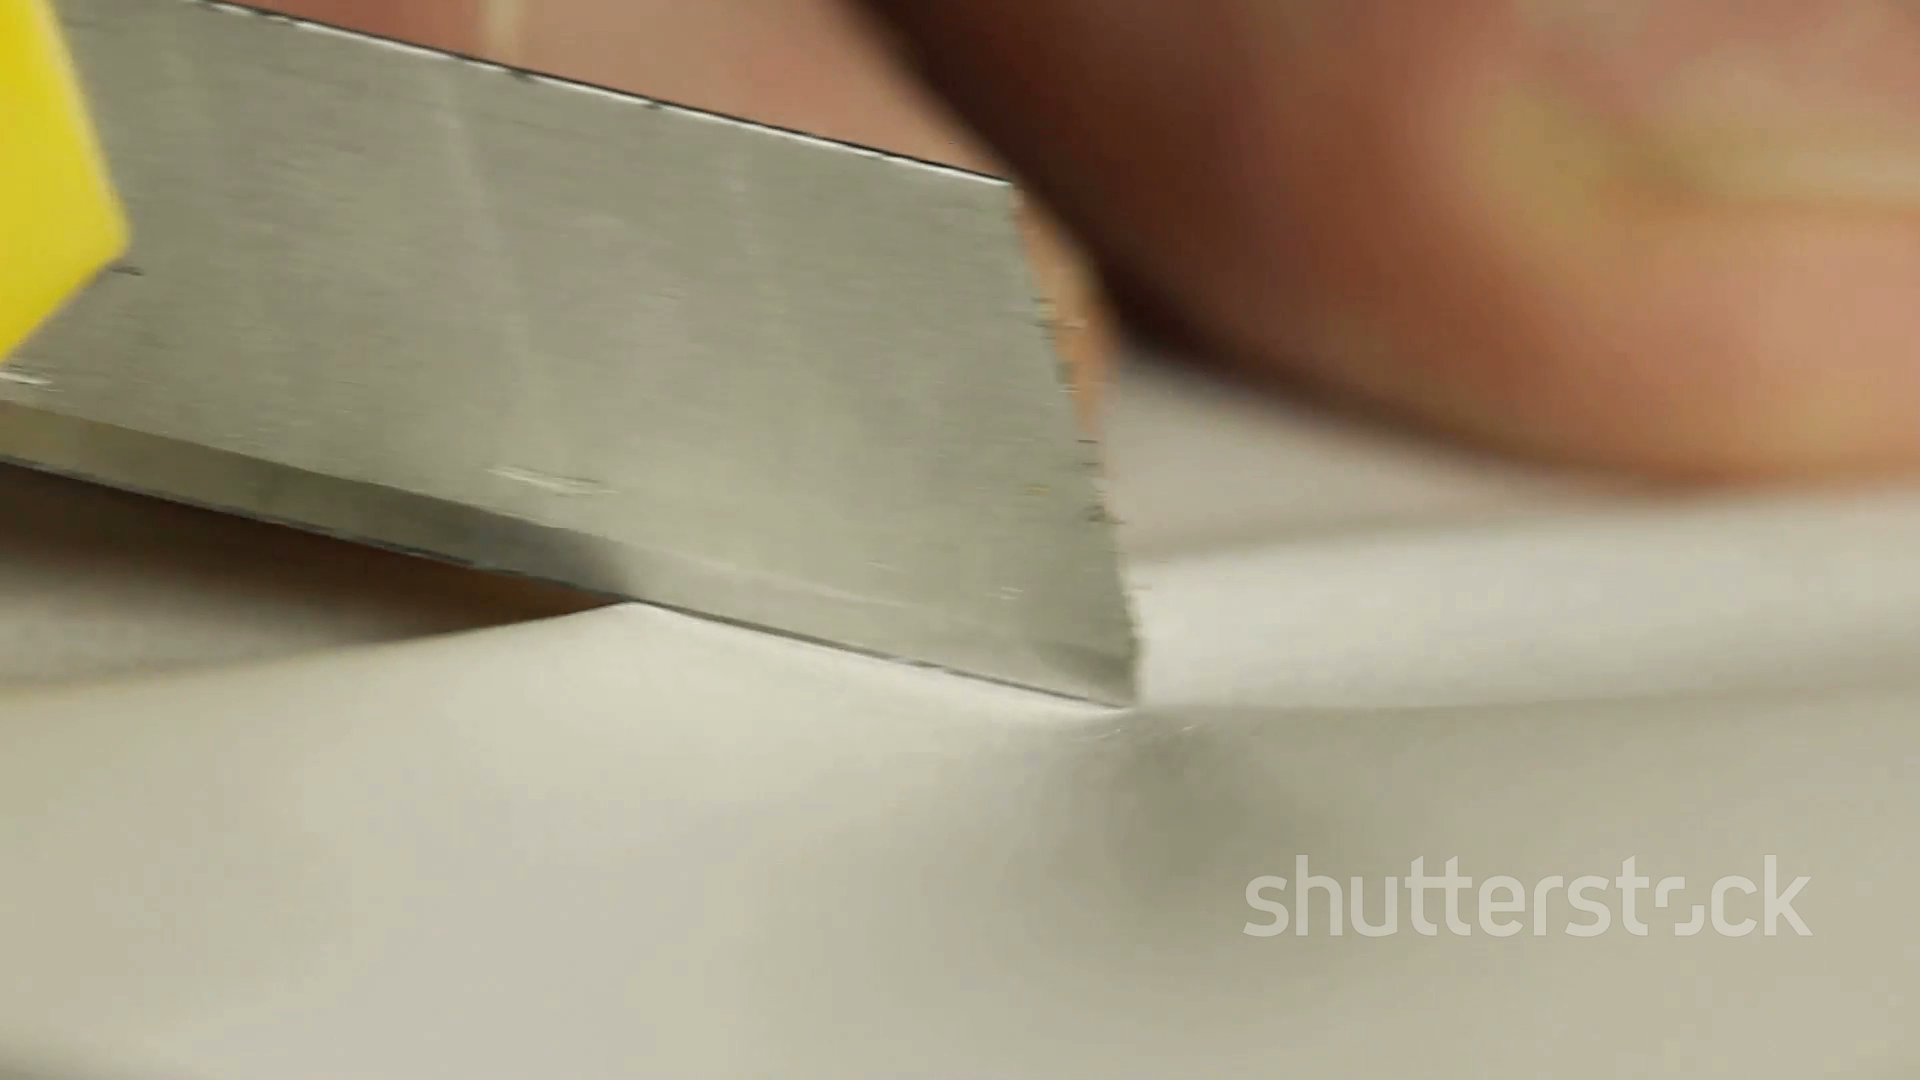cortante: (0, 0, 1138, 708)
